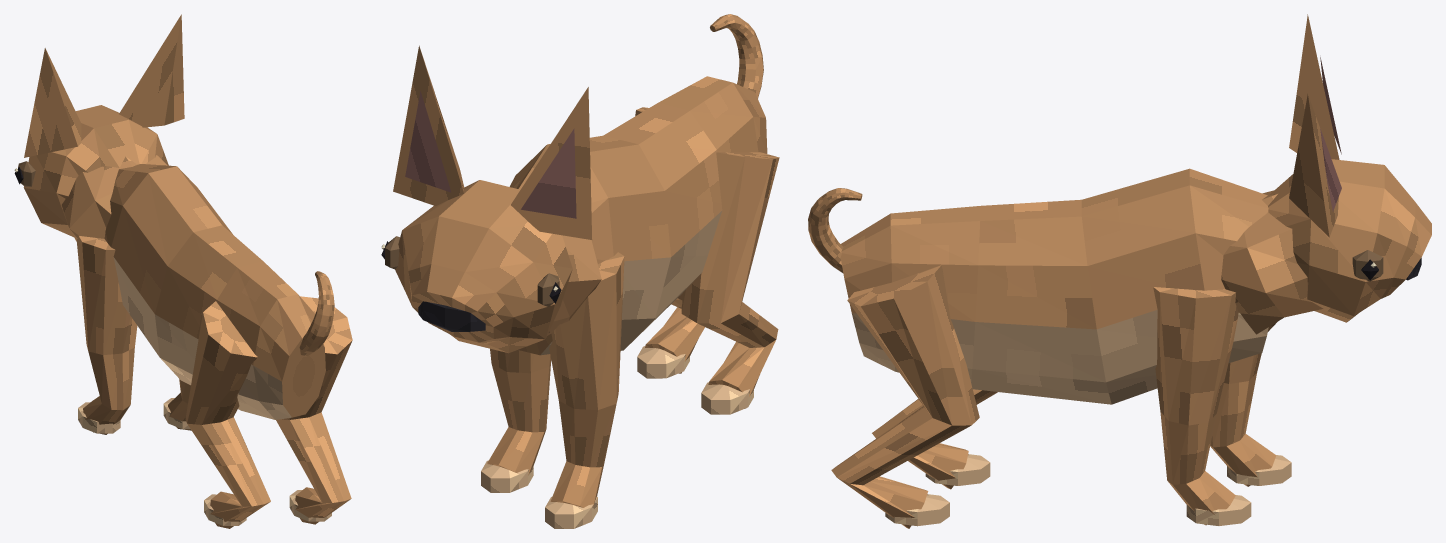
File: mon_dog_chihuahua_pup.glb
3 renders of one model, left to right at view 1: azimuth 30°, elevation 25°; view 2: azimuth 150°, elevation 25°; view 3: azimuth 270°, elevation 25°, orthographic. The views are drawn at different scales.
Parts seen in each view (by area): view 1: closed_body; view 2: closed_body; view 3: closed_body.
Part boxes in pixels (x1,y1,x2,y2): closed_body: [14, 14, 352, 528]; closed_body: [381, 14, 779, 528]; closed_body: [808, 14, 1431, 528].
Bounding box in the file's own units: 0.1011 × 0.2284 × 0.2843.
Materials: 1 (1 with a texture image).
